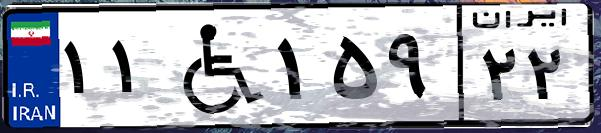1: (270, 28, 330, 110), (57, 26, 110, 100), (110, 28, 158, 98)
2: (475, 38, 525, 113), (525, 38, 570, 115)
5: (330, 28, 385, 110)
9: (385, 28, 445, 110)
ژ (معلولین و جانبازان): (158, 12, 270, 120)
